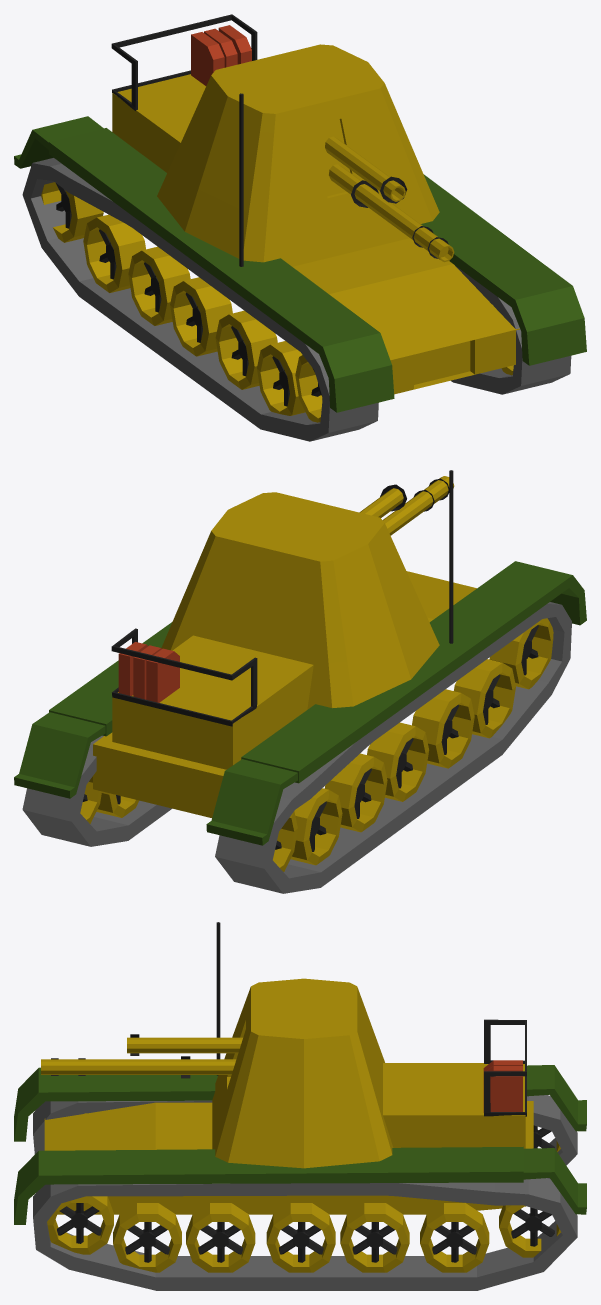
Rendered from light-tank.glb.
3 views of the same model, one above another, from view 1: azimuth 30°, elevation 25°; view 2: azimuth 150°, elevation 25°; view 3: azimuth 270°, elevation 25° (orthographic). The views are drawn at different scales.
Parts seen in each view (by area): view 1: Light_Tank; view 2: Light_Tank; view 3: Light_Tank.
Boxes of the visible parts, x1,y1,x2,y2 form: Light_Tank: (14,14,586,441); Light_Tank: (14,470,586,893); Light_Tank: (14,922,586,1290).
Size of the model in its own units: 2.06 by 2.4 by 4.61.
2 materials, 2 textured.
